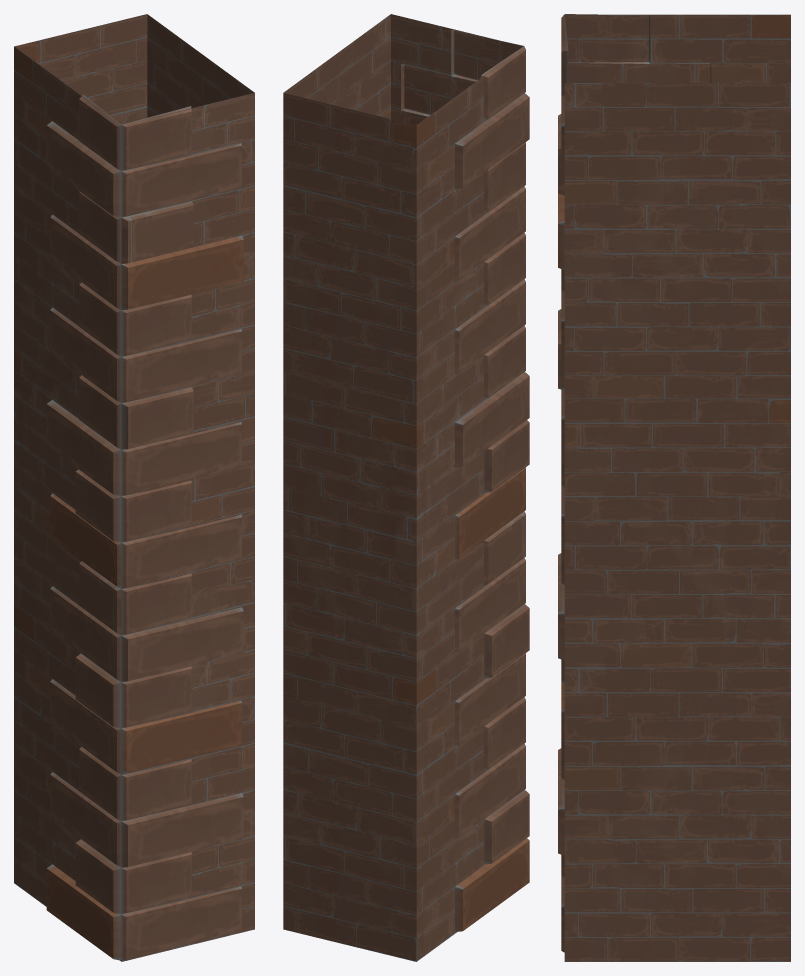
File: brick_column_red_bricks.glb
3 renders of one model, left to right at view 1: azimuth 30°, elevation 25°; view 2: azimuth 150°, elevation 25°; view 3: azimuth 270°, elevation 25°, orthographic. The views are drawn at different scales.
Parts seen in each view (by area): view 1: Brick_Column_RedBricks; view 2: Brick_Column_RedBricks; view 3: Brick_Column_RedBricks.
Part boxes in pixels (x1,y1,x2,y2): Brick_Column_RedBricks: (14,14,254,961); Brick_Column_RedBricks: (283,14,529,961); Brick_Column_RedBricks: (558,14,790,961).
Bounding box in the file's own units: 0.5258 × 3 × 0.7202.
Materials: 1 (1 with a texture image).
